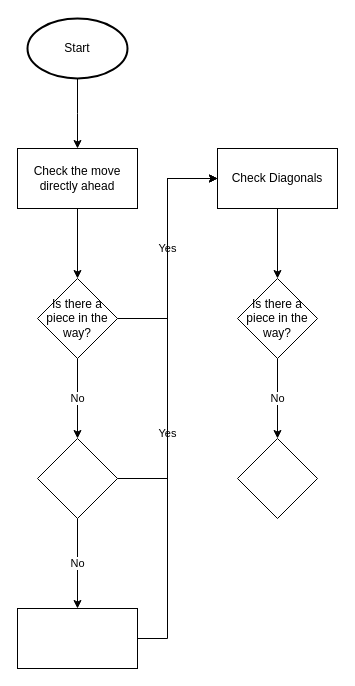
Some shapes in this 355 by 686 pixel diagram are drawn without their labels. The shapes that lost their labels are listed below. From the top down, each one's centre as x and y in pixels, then its label:
At point (77, 478): "Would moving put the king in check.".
At point (277, 478): "Would moving put the king in check?".
At point (77, 638): "One move ahead is a valid move.".
